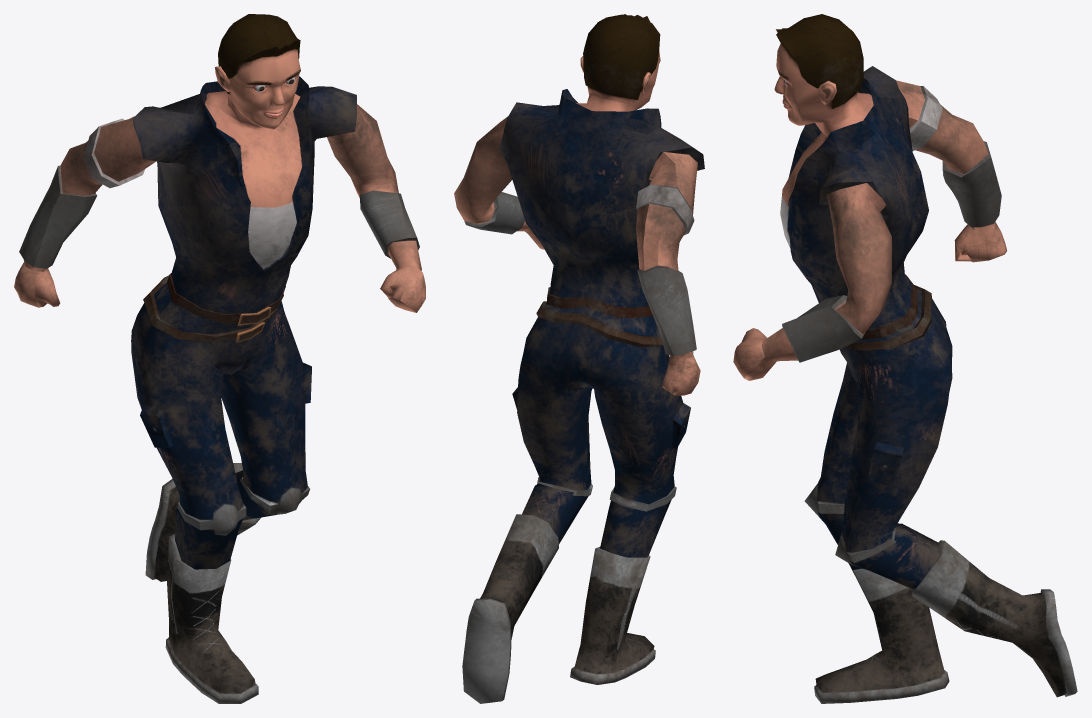
Rendered from Anim_correr_jugador.0032.obj.
3 views of the same model, side by side, from view 1: azimuth 30°, elevation 25°; view 2: azimuth 150°, elevation 25°; view 3: azimuth 270°, elevation 25° (orthographic). The views are drawn at different scales.
Parts seen in each view (by area): view 1: Anim_correr_jugador; view 2: Anim_correr_jugador; view 3: Anim_correr_jugador.
Boxes of the visible parts, left/top/right/bottom form: Anim_correr_jugador: left=14, top=14, right=425, bottom=703; Anim_correr_jugador: left=454, top=14, right=704, bottom=703; Anim_correr_jugador: left=733, top=14, right=1077, bottom=703.
Size of the model in its own units: 4.56 by 9.3 by 4.22.
Materials: 2 (2 with a texture image).
